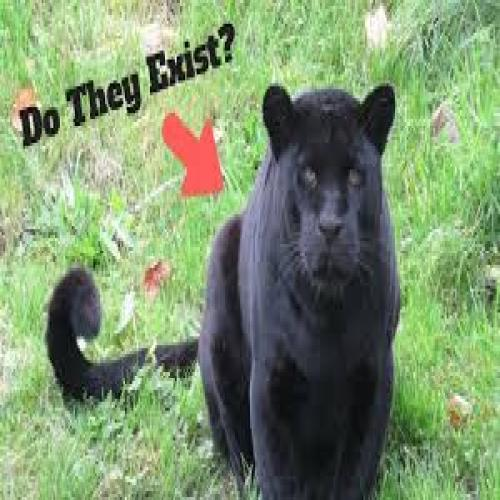panther-endangered: (44, 83, 397, 500)
